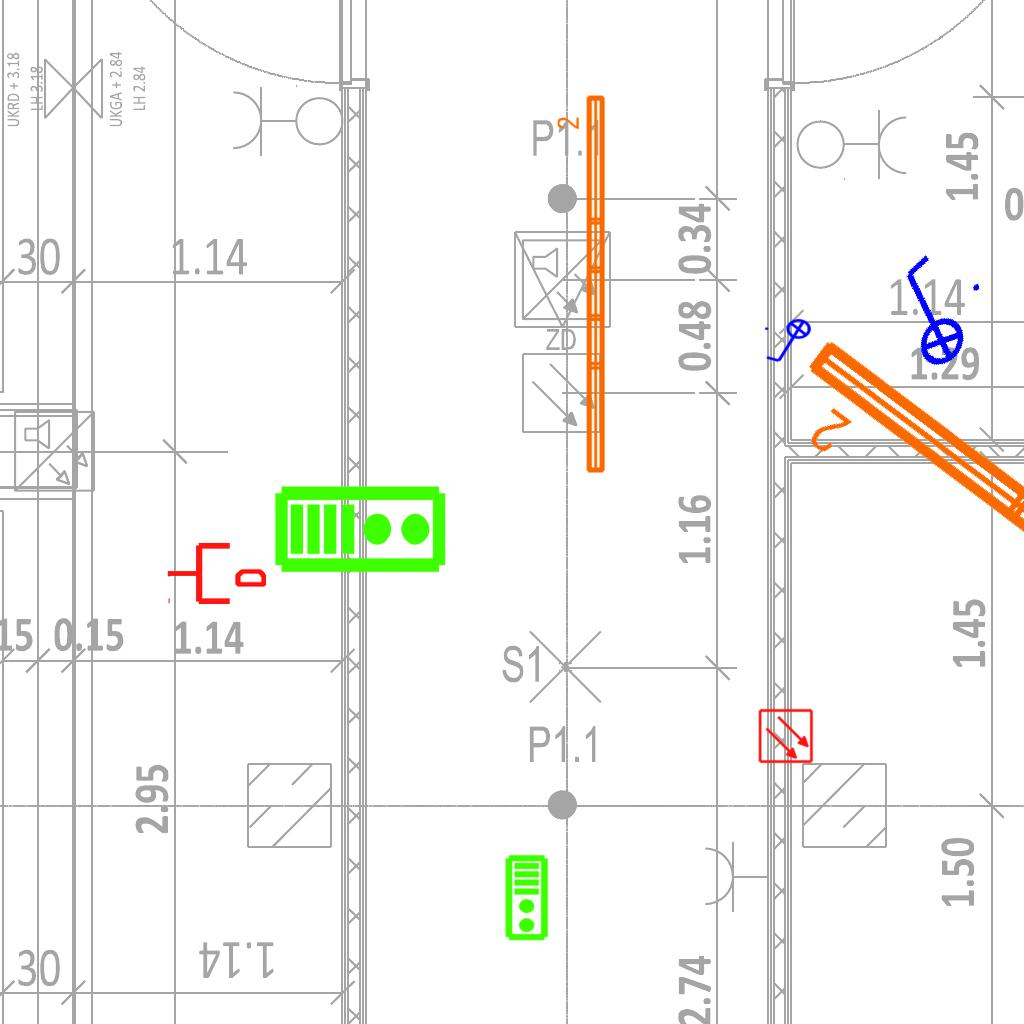Ambulanz_Pendelleuchte_LED: (762, 324, 1024, 880), (555, 91, 611, 478)
Ausschalter_beleuchtet: (858, 240, 1000, 386), (762, 318, 818, 366)
Datenanschluss_einfach: (166, 539, 266, 608)
Gegensprechanlage_mit_Video: (273, 480, 449, 575), (504, 854, 551, 942)
RMO_Rauchmelder_optischer: (758, 708, 814, 764)
